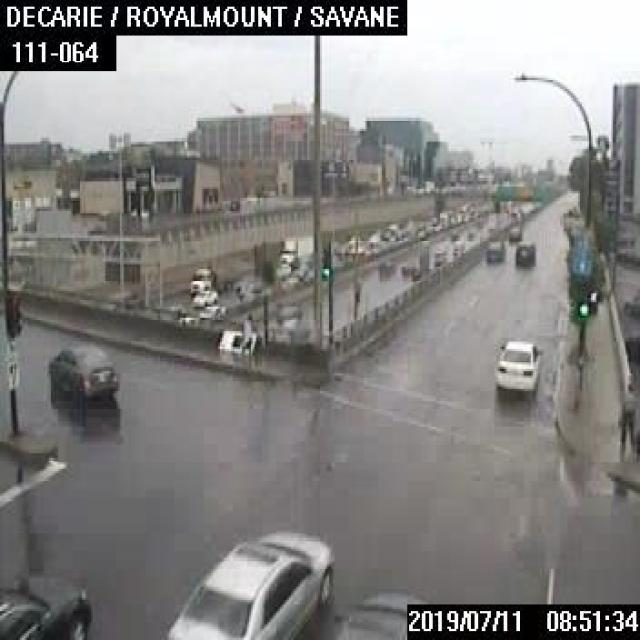pedestrian: (240, 308, 250, 358)
vehicle: (164, 526, 336, 638), (0, 566, 93, 638), (44, 340, 122, 404), (329, 589, 424, 638), (491, 333, 542, 391), (188, 259, 250, 294), (277, 231, 312, 263), (513, 239, 535, 267), (275, 304, 309, 322), (485, 238, 506, 262), (190, 288, 216, 306), (508, 226, 520, 240)
